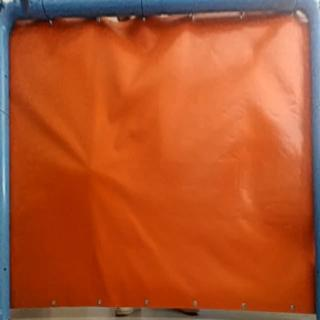Hit-hRxx: (81, 160, 100, 175)
